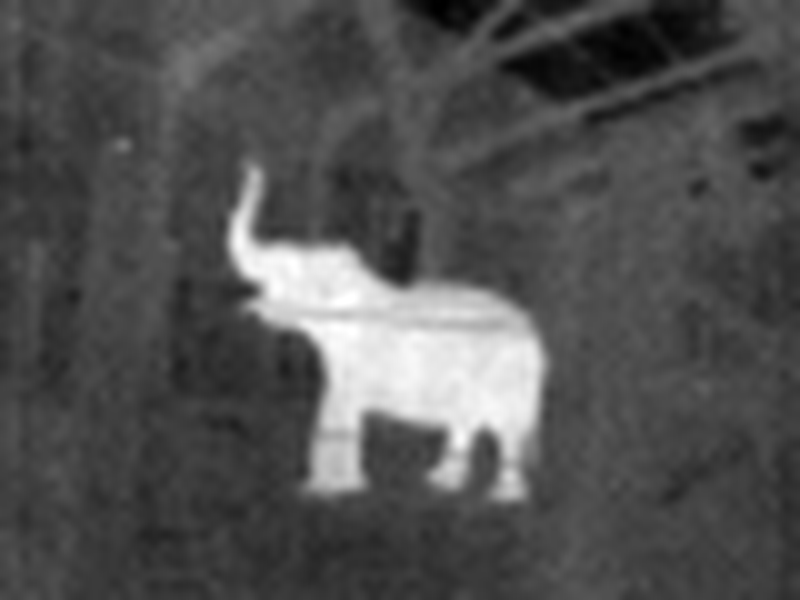elephant: (224, 151, 533, 497)
